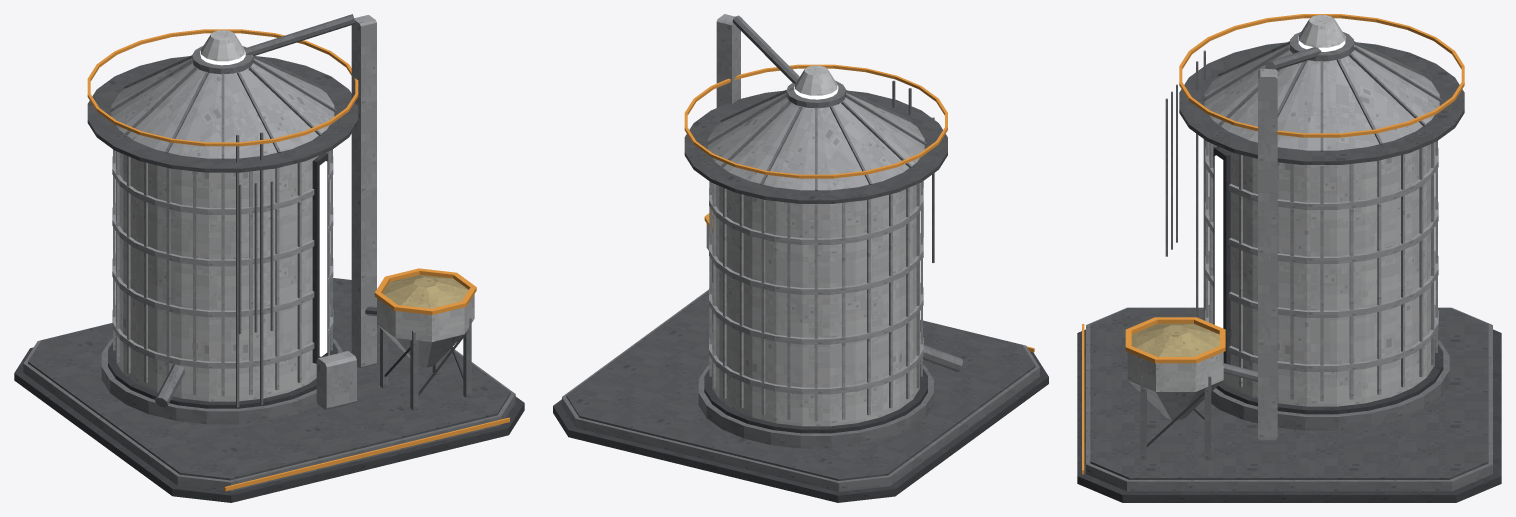
File: silo_lod2.glb
The picture shows the model from 3 angles, left to right: view 1: azimuth 30°, elevation 25°; view 2: azimuth 150°, elevation 25°; view 3: azimuth 270°, elevation 25°; orthographic projection. The views are drawn at different scales.
Parts seen in each view (by area): view 1: silo_base_body.002, silo_base_trim.002, silo_gauge_glow.002, silo_vent_body.002; view 2: silo_base_body.002, silo_base_trim.002, silo_vent_body.002; view 3: silo_base_body.002, silo_base_trim.002, silo_gauge_glow.002, silo_vent_body.002.
Part boxes in pixels (x1,y1,x2,y2): silo_base_body.002: (14, 14, 524, 502); silo_base_trim.002: (87, 29, 509, 491); silo_gauge_glow.002: (319, 161, 327, 356); silo_vent_body.002: (201, 30, 244, 61); silo_base_body.002: (553, 14, 1048, 502); silo_base_trim.002: (684, 64, 1034, 352); silo_vent_body.002: (795, 65, 837, 95); silo_base_body.002: (1077, 32, 1501, 502); silo_base_trim.002: (1082, 14, 1464, 474); silo_gauge_glow.002: (1214, 155, 1223, 328); silo_vent_body.002: (1299, 15, 1344, 47).
Size of the model in its own units: 3.96 by 3.96 by 3.92.
Materials: 3 (1 with a texture image).
